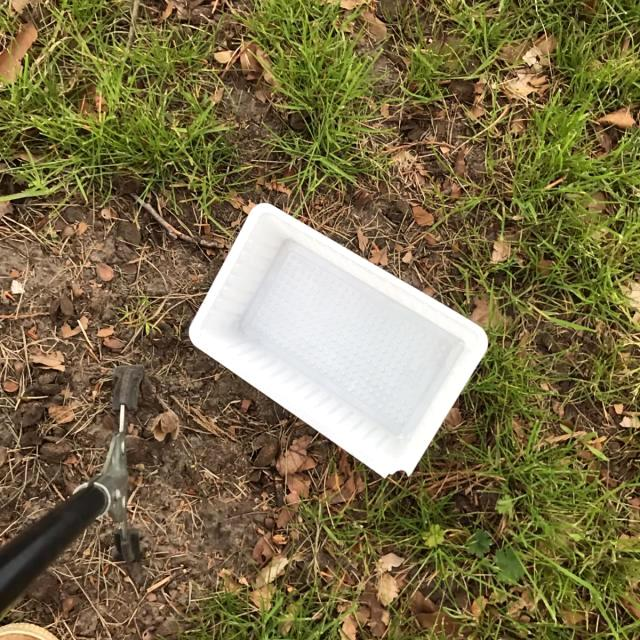Plastic: (185, 203, 488, 482)
